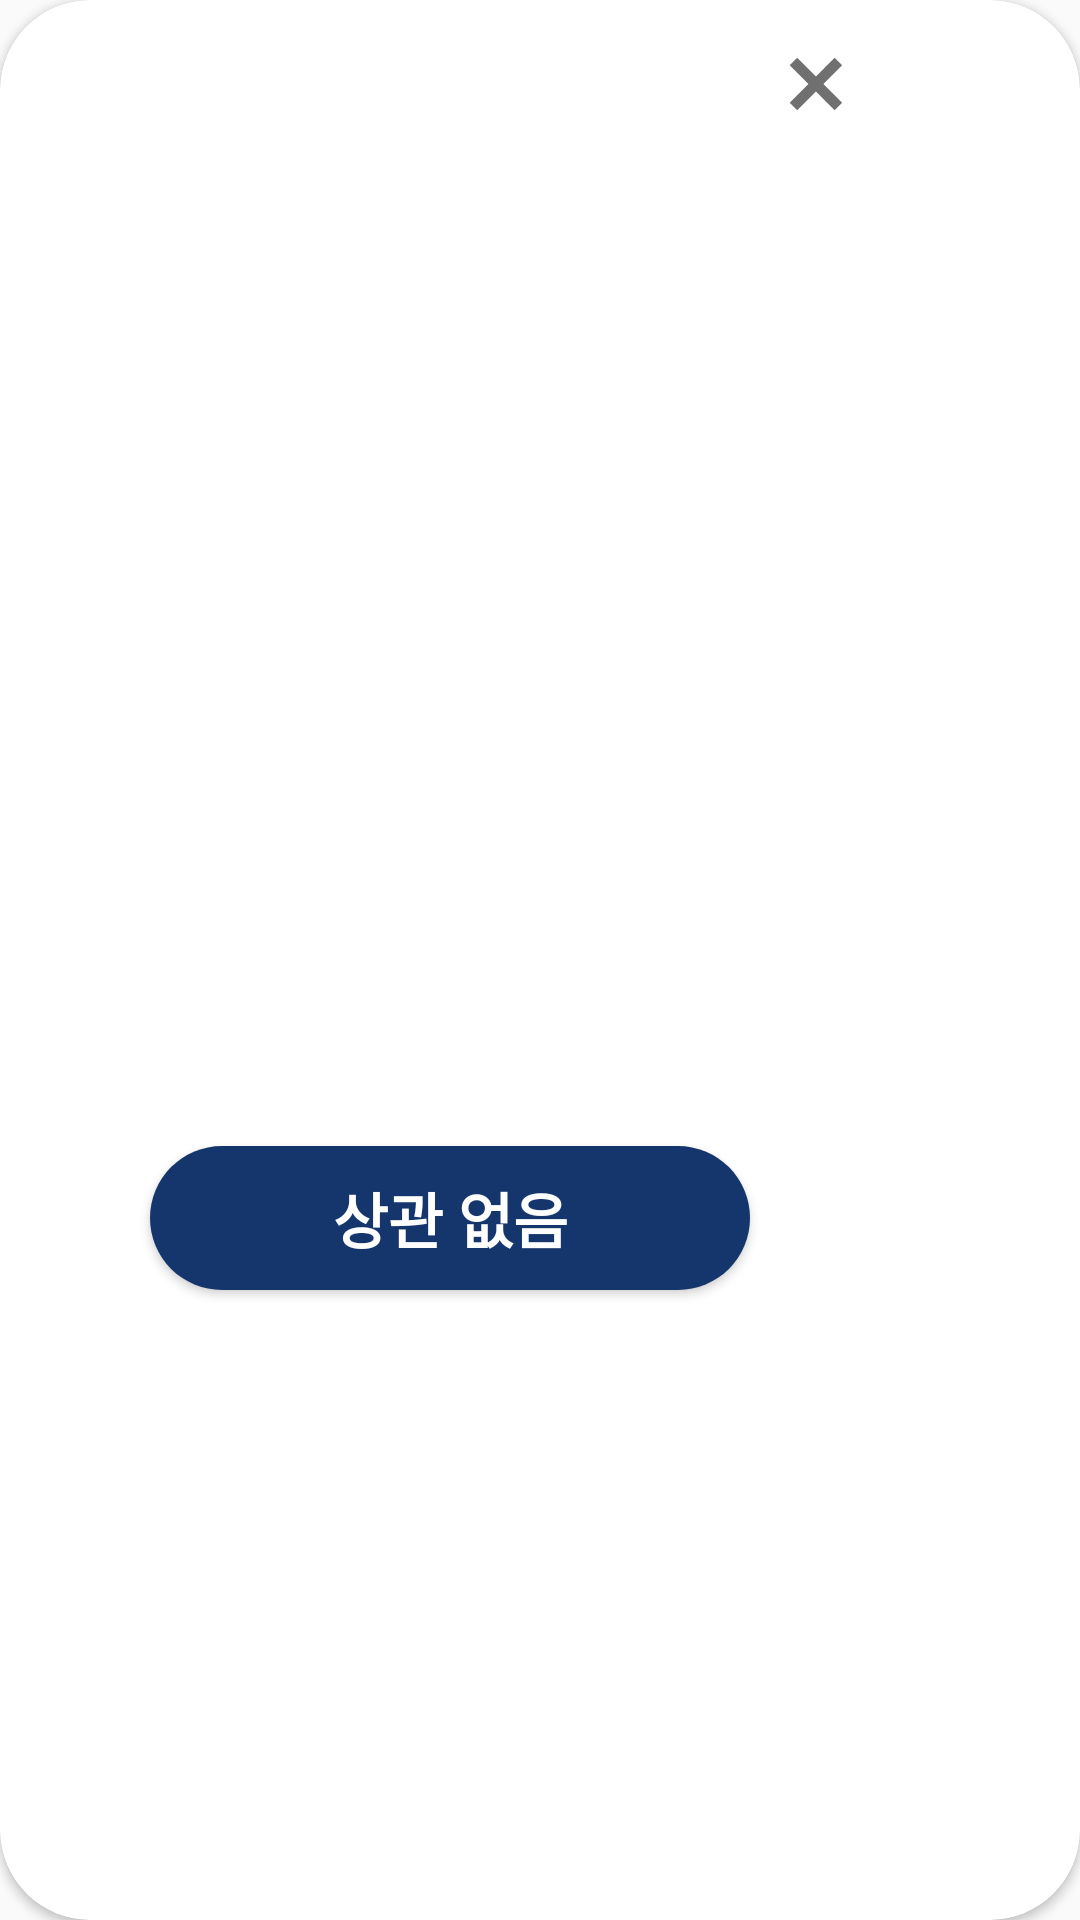

Screen size 1080 × 1920. Icon name, then its center in pixels as point (x, y):
close: point (816, 84)
